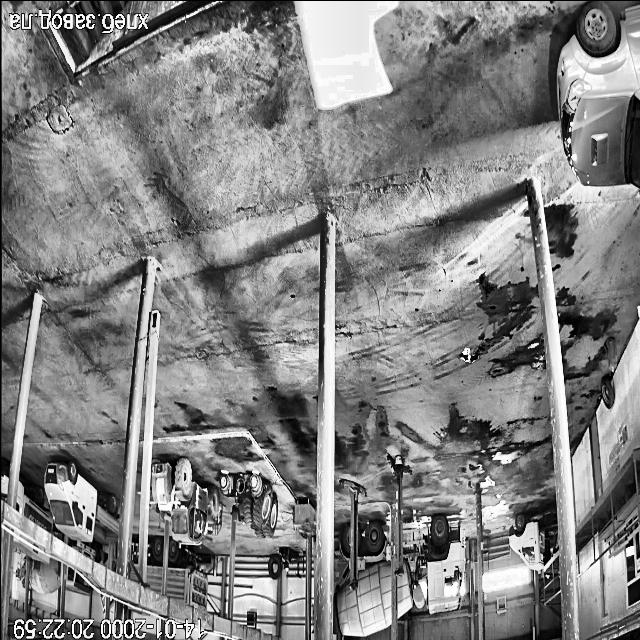class6: (151, 459, 222, 544), (220, 474, 278, 538)
class7: (396, 516, 464, 616), (334, 522, 392, 636), (44, 460, 119, 541), (166, 539, 207, 612), (508, 514, 556, 571), (16, 484, 52, 532), (30, 557, 60, 594), (146, 537, 164, 592), (12, 538, 48, 562), (66, 567, 91, 595), (71, 540, 102, 562), (0, 461, 8, 500), (132, 542, 140, 566), (18, 564, 24, 587), (130, 569, 136, 580), (101, 596, 104, 608)
mechanic: (556, 2, 640, 188)
tractor: (605, 339, 615, 372)
truck: (340, 479, 366, 588), (387, 454, 411, 572)
